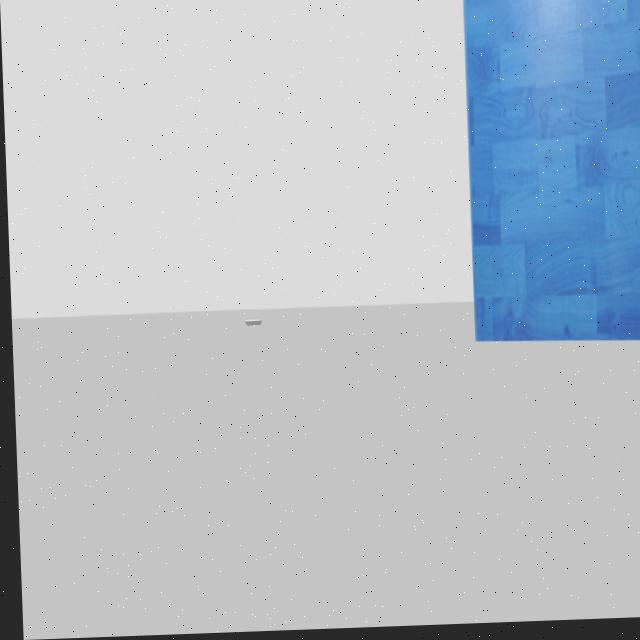bowl: (239, 315, 268, 327)
shelf: (449, 0, 640, 365)
